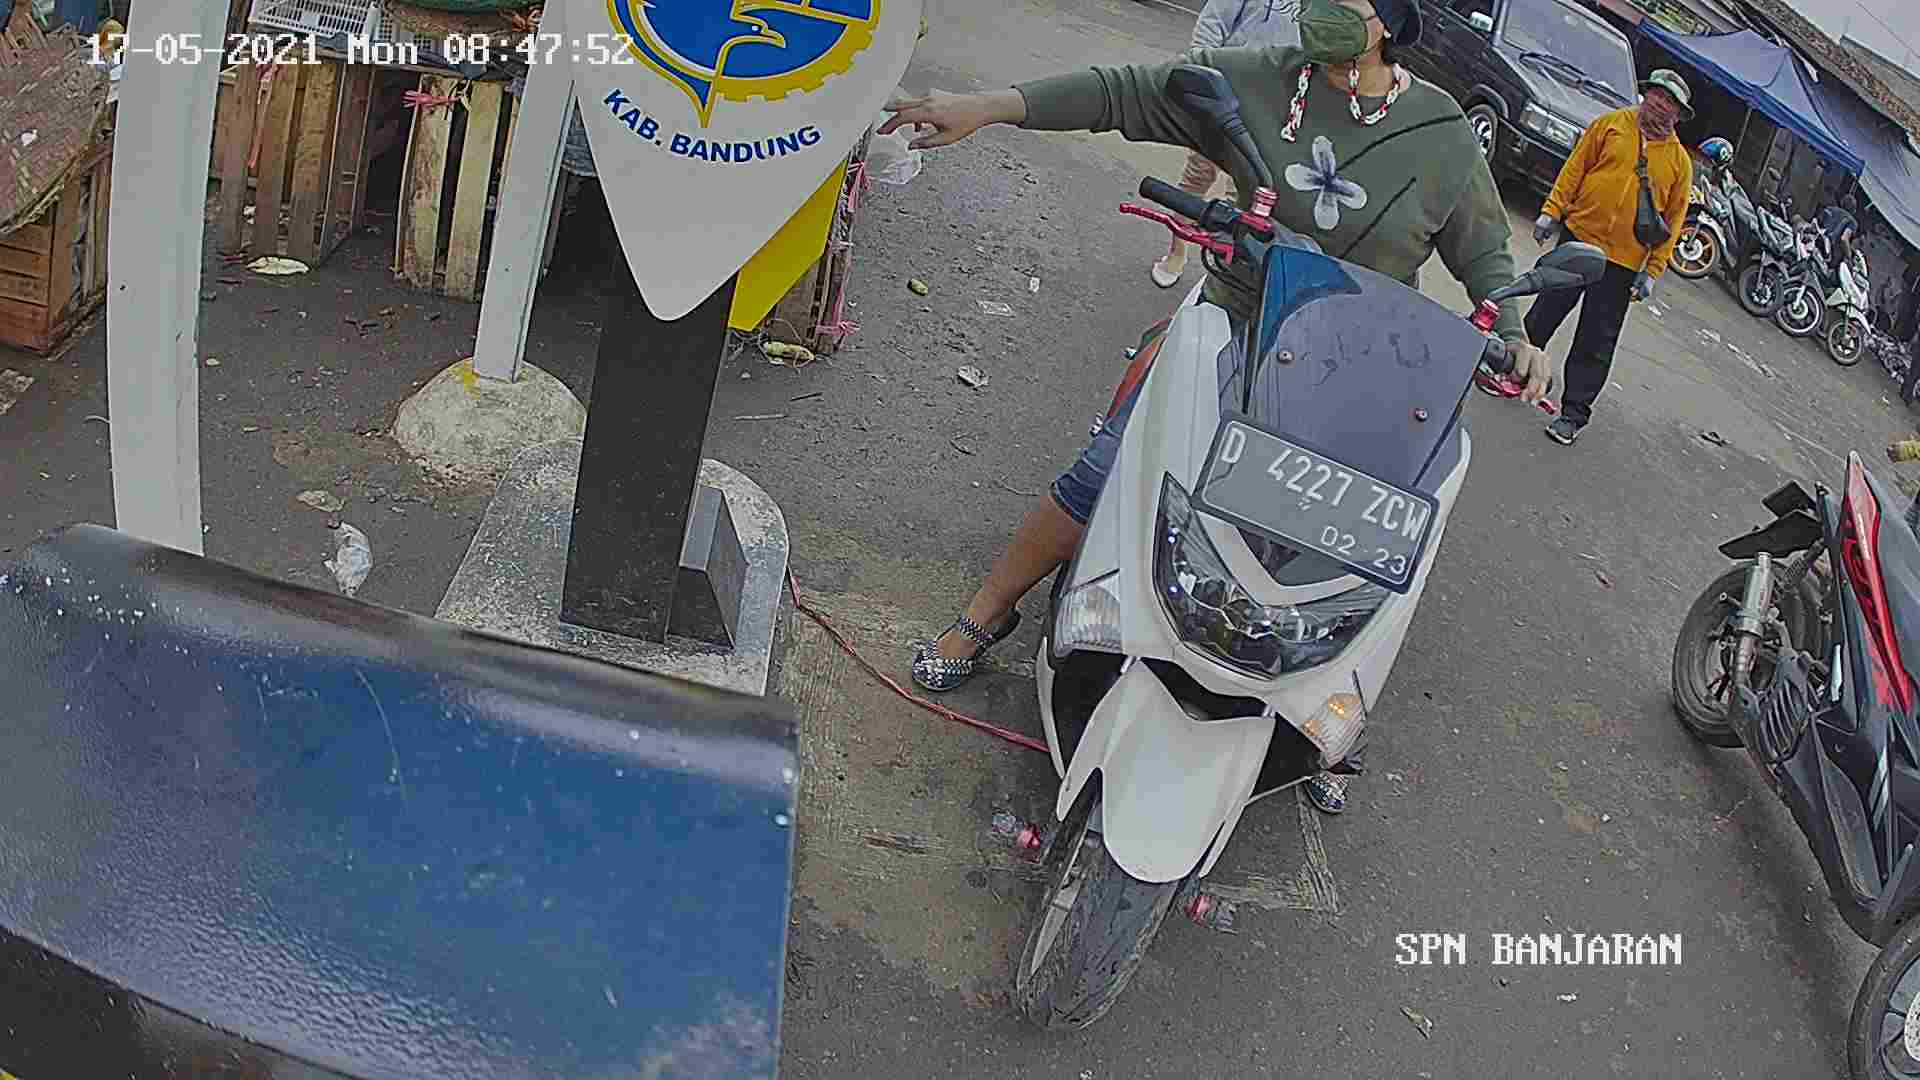motor: (1025, 214, 1499, 1044)
